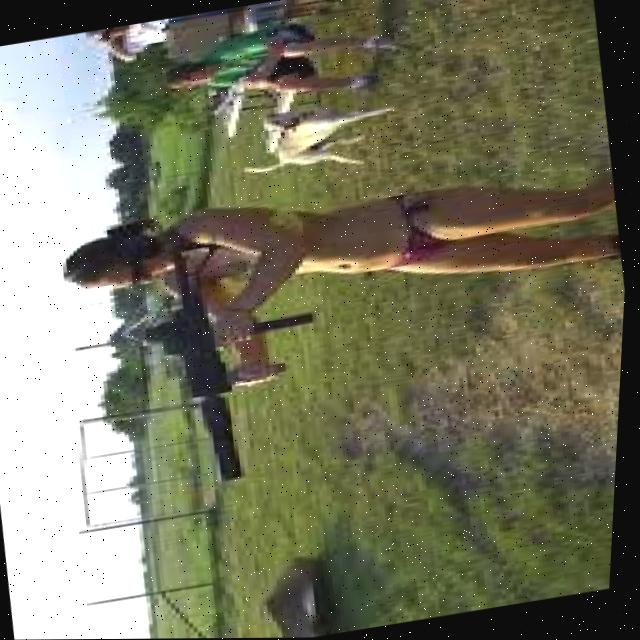firearm: (122, 224, 348, 496)
